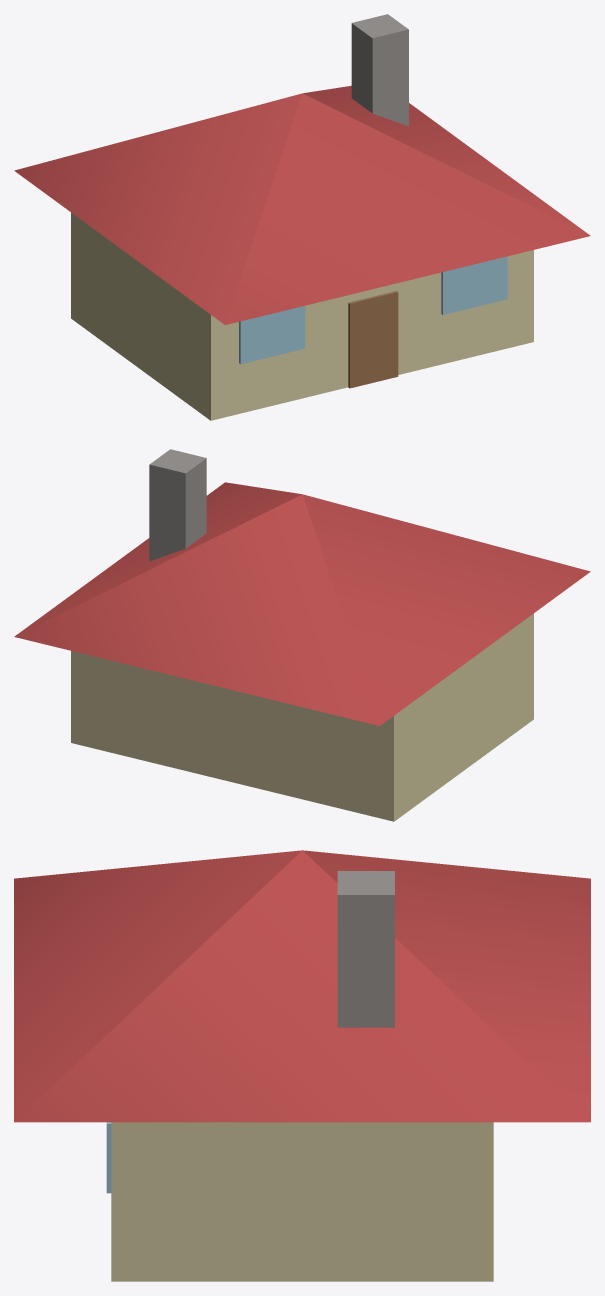
File: house.glb
3 views of the same model, one above another, from view 1: azimuth 30°, elevation 25°; view 2: azimuth 150°, elevation 25°; view 3: azimuth 270°, elevation 25° (orthographic). The views are drawn at different scales.
Bounding box in the file's own units: 9.05 × 6.2 × 9.05.
